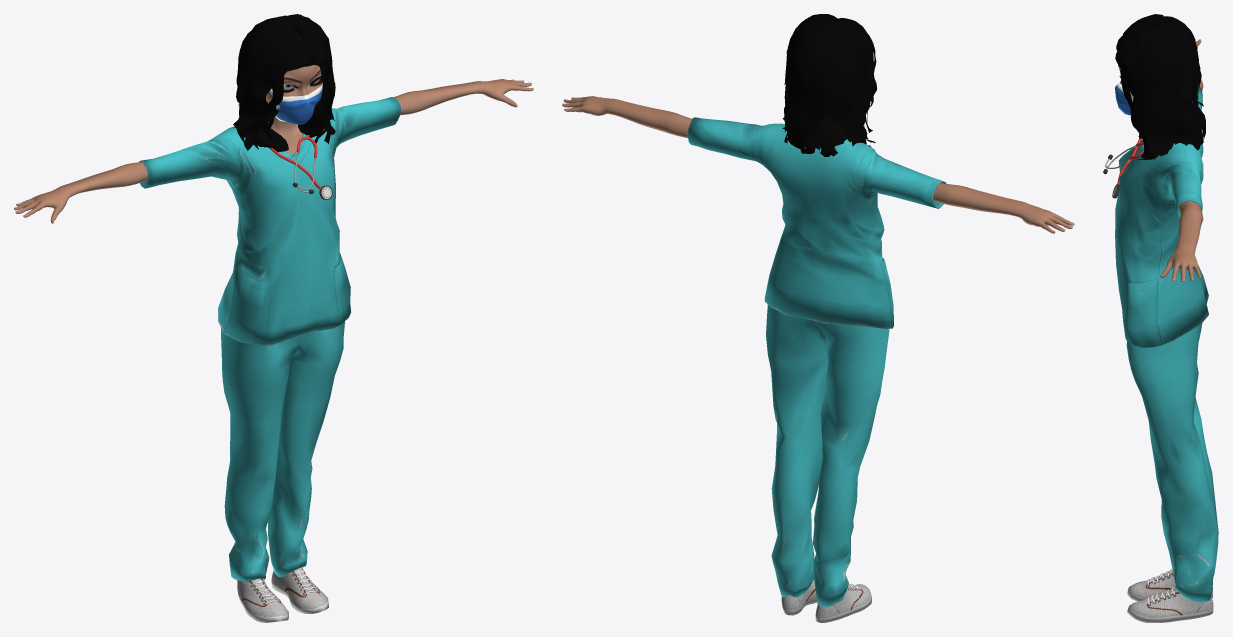
The picture shows the model from 3 angles, left to right: view 1: azimuth 30°, elevation 25°; view 2: azimuth 150°, elevation 25°; view 3: azimuth 270°, elevation 25°; orthographic projection.
Visible parts, largest first — view 1: Top, Bottom, Hair, Body, Shoes, Mask, Stethoscope; view 2: Bottom, Top, Hair, Body, Shoes; view 3: Top, Bottom, Hair, Shoes, Body, Stethoscope, Mask.
Part boxes in pixels (x1,y1,x2,y2): Top: (139, 97, 400, 345); Bottom: (221, 321, 344, 581); Hair: (233, 14, 335, 152); Body: (14, 65, 533, 223); Shoes: (237, 567, 328, 622); Mask: (269, 82, 322, 124); Stethoscope: (268, 135, 332, 199); Bottom: (766, 305, 889, 607); Top: (687, 117, 946, 328); Hair: (782, 14, 876, 156); Body: (562, 96, 1074, 233); Shoes: (781, 579, 871, 622); Top: (1115, 85, 1208, 347); Bottom: (1126, 323, 1218, 602); Hair: (1115, 14, 1205, 159); Shoes: (1127, 569, 1213, 622); Body: (1118, 39, 1203, 282); Stethoscope: (1103, 138, 1143, 198); Mask: (1115, 81, 1133, 115).
Bounding box in the file's own units: 1.54 × 1.68 × 0.2995.
Materials: 11 (5 with a texture image).
